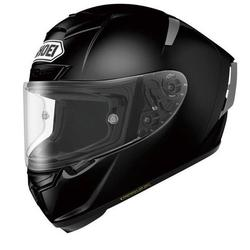with_helmet: (20, 2, 239, 234)
